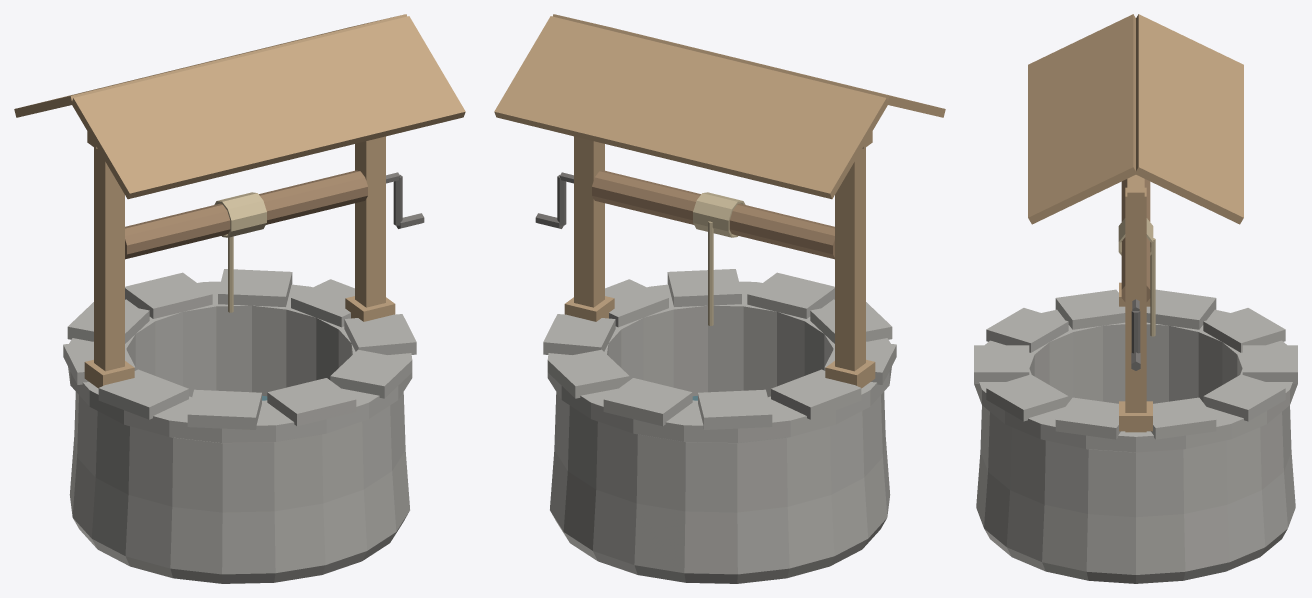
File: prop-well-stone-wb1.fbx
3 views of the same model, side by side, from view 1: azimuth 30°, elevation 25°; view 2: azimuth 150°, elevation 25°; view 3: azimuth 270°, elevation 25° (orthographic). The views are drawn at different scales.
Visible parts, largest first — view 1: prop-well-stone-wb1; view 2: prop-well-stone-wb1; view 3: prop-well-stone-wb1.
Part boxes in pixels (box(x1,y1,x2,y2)): prop-well-stone-wb1: box(14, 14, 465, 583); prop-well-stone-wb1: box(494, 14, 945, 583); prop-well-stone-wb1: box(974, 14, 1297, 583).
Size of the model in its own units: 1.77 by 2.22 by 1.52.
